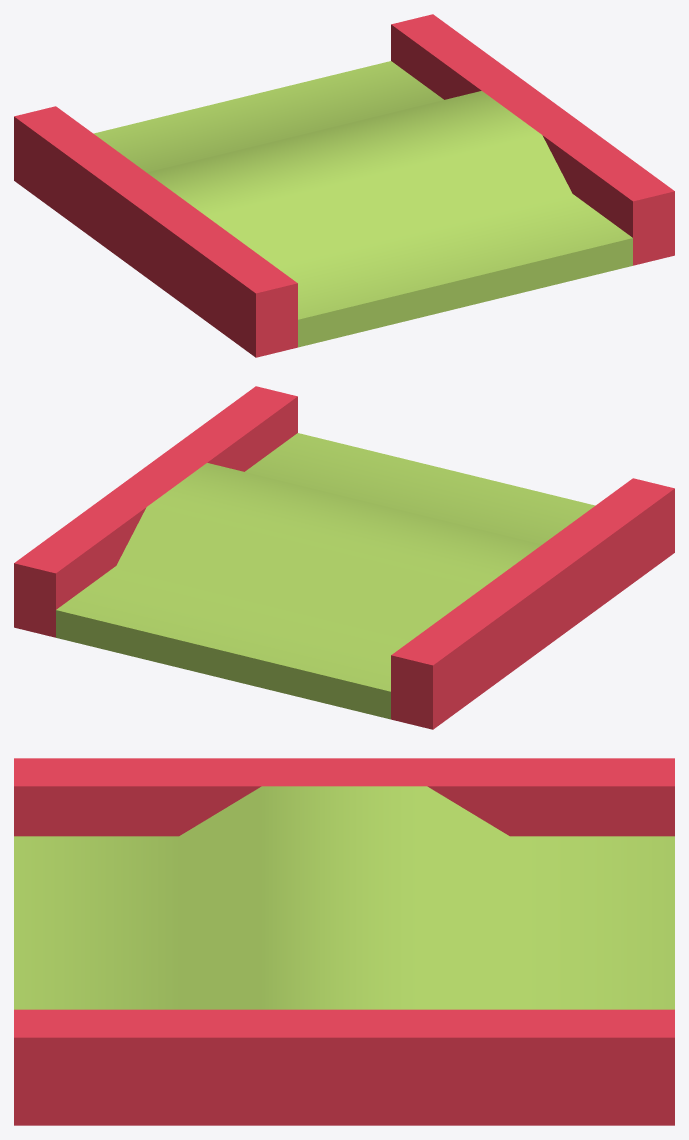
File: hillSquare.fbx
The picture shows the model from 3 angles, top to bottom: view 1: azimuth 30°, elevation 25°; view 2: azimuth 150°, elevation 25°; view 3: azimuth 270°, elevation 25°; orthographic projection. The views are drawn at different scales.
Visible parts, largest first — view 1: hillSquare; view 2: hillSquare; view 3: hillSquare.
Part boxes in pixels (box(x1,y1,x2,y2)): hillSquare: box(14, 14, 674, 357); hillSquare: box(14, 386, 674, 729); hillSquare: box(14, 758, 674, 1125).
Bounding box in the file's own units: 10 × 1.47 × 10.
